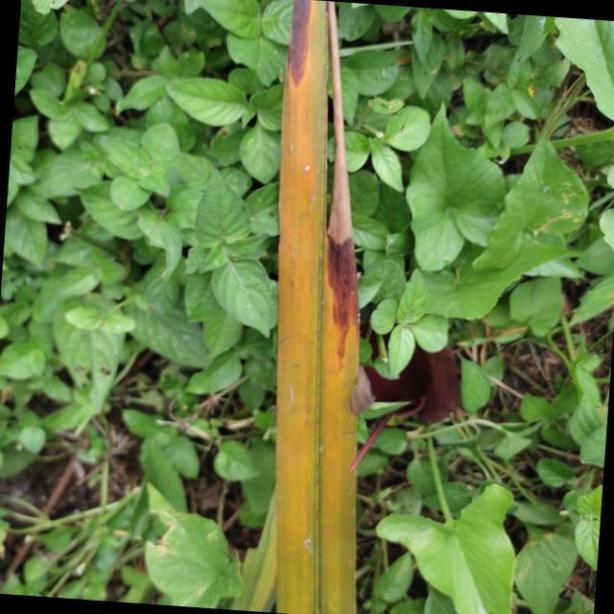Megnesium: (275, 0, 360, 614)
